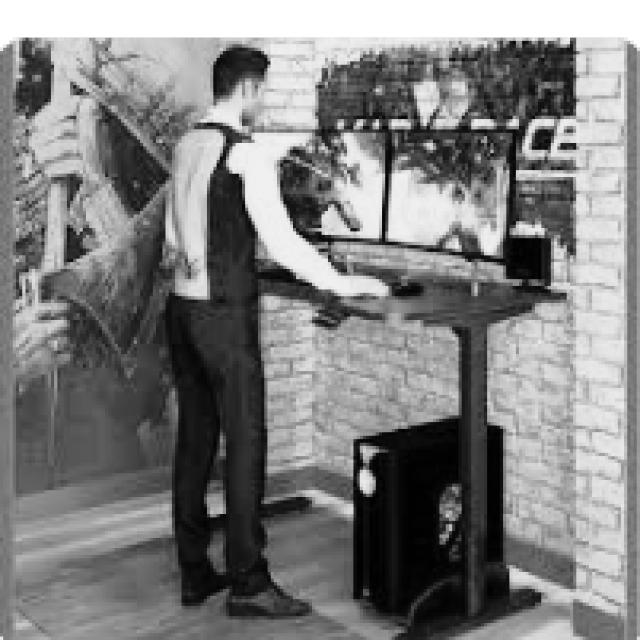table: (252, 256, 566, 634)
